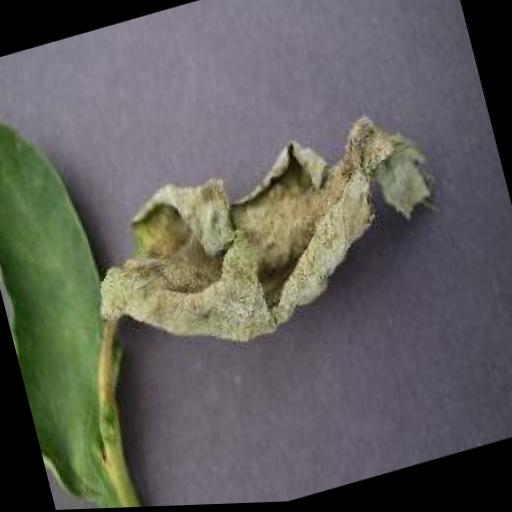Late Blight: (66, 97, 470, 381)
